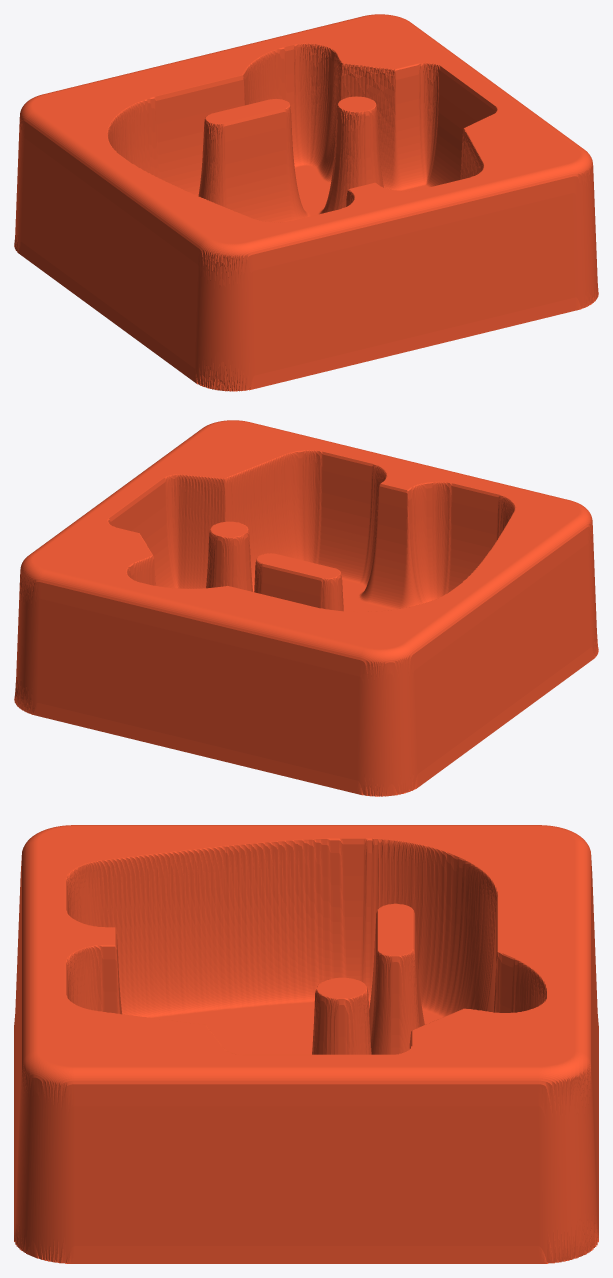
The model's file is mold.glb.
3 renders of one model, top to bottom at view 1: azimuth 30°, elevation 25°; view 2: azimuth 150°, elevation 25°; view 3: azimuth 270°, elevation 25°, orthographic. The views are drawn at different scales.
Parts seen in each view (by area): view 1: geometry_0; view 2: geometry_0; view 3: geometry_0.
Part boxes in pixels (<box>): geometry_0: <box>14,14,598,391</box>; geometry_0: <box>14,420,598,796</box>; geometry_0: <box>14,825,598,1263</box>.
Size of the model in its own units: 0.0924 by 0.031 by 0.0878.
